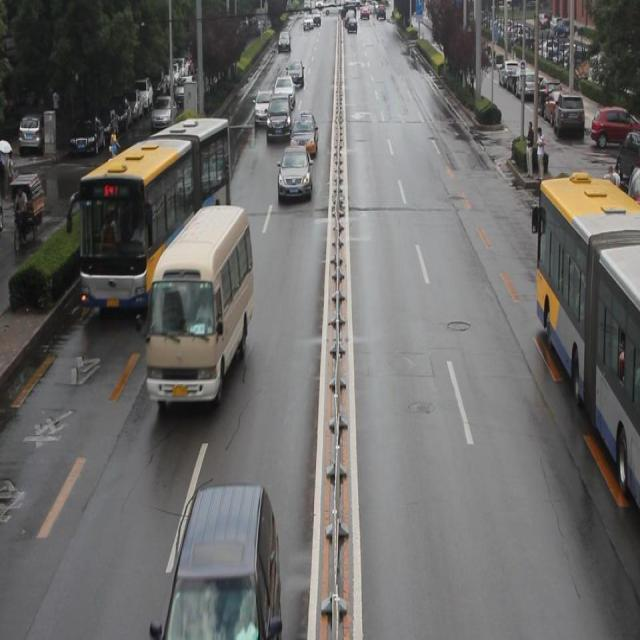car: (165, 486, 284, 640), (108, 151, 173, 210), (276, 144, 312, 199), (183, 121, 216, 171), (289, 111, 317, 159), (266, 92, 291, 142), (253, 89, 277, 128)
truck: (150, 204, 255, 406)
van: (531, 183, 640, 519), (74, 123, 235, 312)
